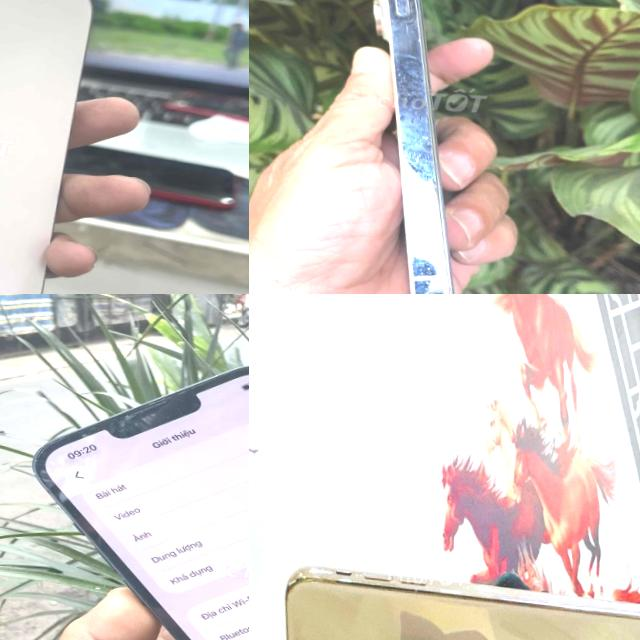scratch: (384, 47, 452, 186), (401, 225, 455, 294), (373, 0, 443, 45)
